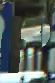Parking: (3, 0, 54, 78)
